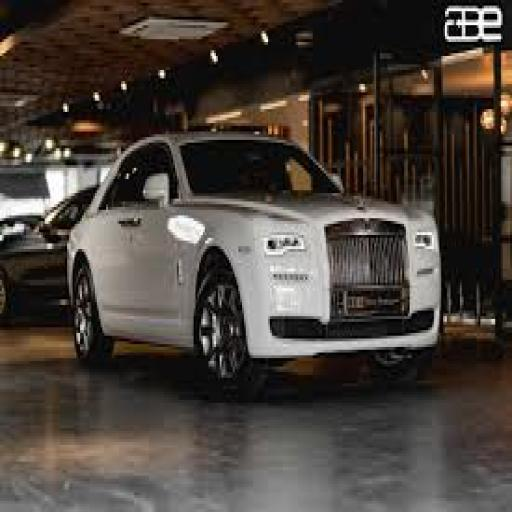car: (45, 83, 466, 423)
